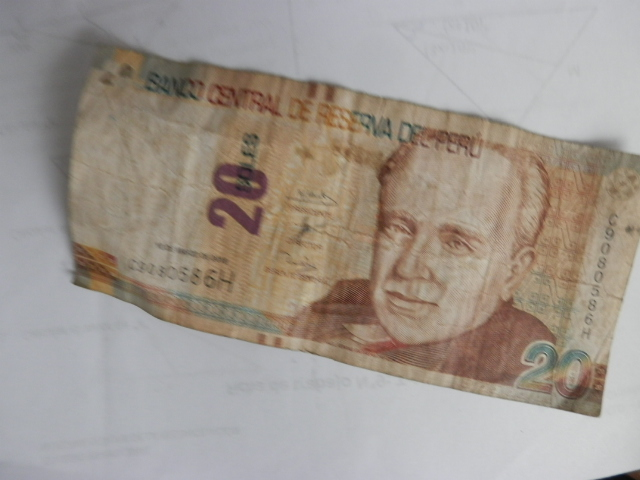B20: (59, 48, 625, 449)
